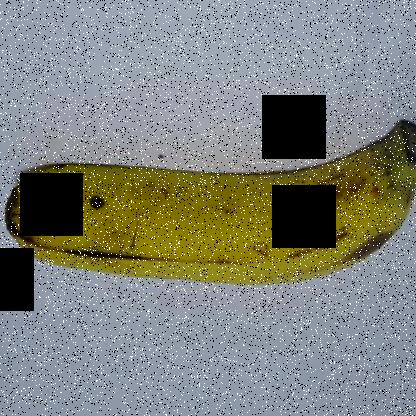ripe: (1, 122, 415, 301)
